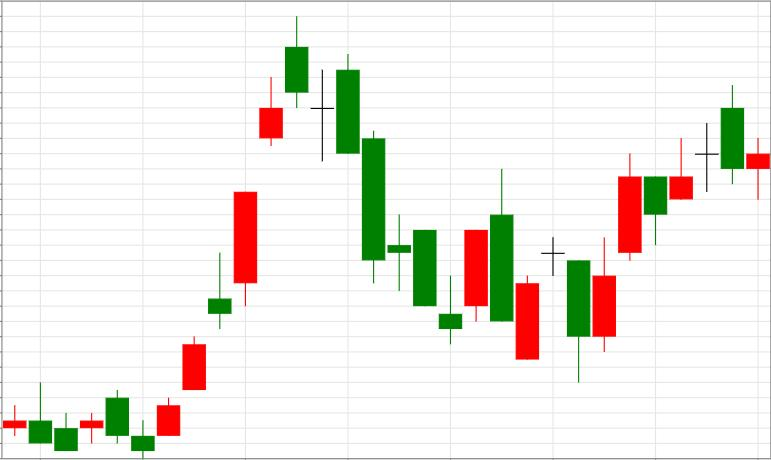morning_star_rise: (285, 17, 488, 344)
